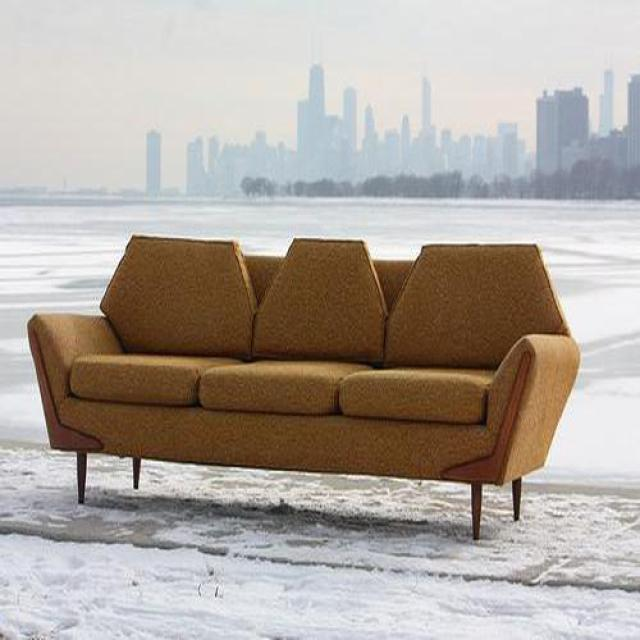sofa: (27, 236, 581, 541)
